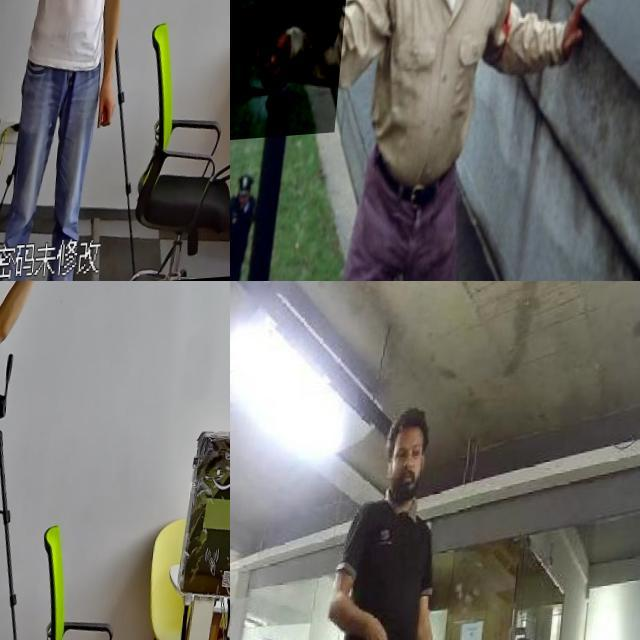gun-knife-thesis - v11 Yolov5 augmented: (230, 0, 375, 153), (29, 281, 79, 322), (65, 0, 94, 35)
